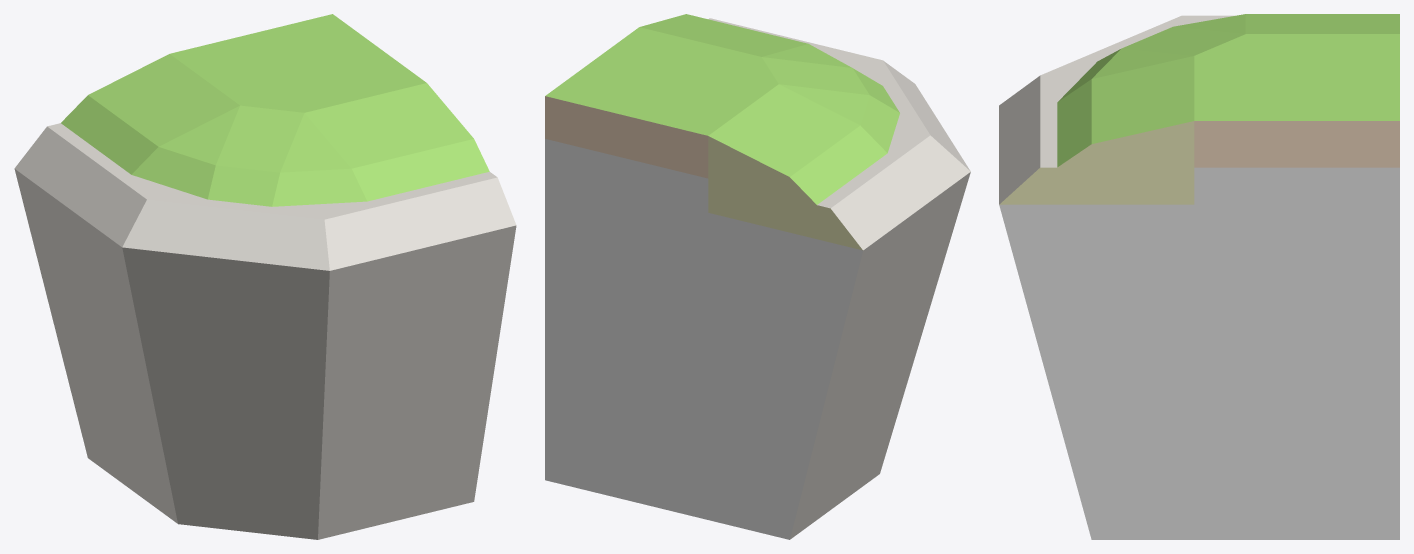
The model's file is Basic_Curve_Outer_2x2_Narrow_Top.glb.
The picture shows the model from 3 angles, left to right: view 1: azimuth 30°, elevation 25°; view 2: azimuth 150°, elevation 25°; view 3: azimuth 270°, elevation 25°; orthographic projection. The views are drawn at different scales.
Visible parts, largest first — view 1: Basic_Curve_Outer_2x2_Narrow_Top; view 2: Basic_Curve_Outer_2x2_Narrow_Top; view 3: Basic_Curve_Outer_2x2_Narrow_Top.
Part boxes in pixels (bbox=[...]): Basic_Curve_Outer_2x2_Narrow_Top: bbox=[14, 14, 516, 539]; Basic_Curve_Outer_2x2_Narrow_Top: bbox=[545, 14, 970, 539]; Basic_Curve_Outer_2x2_Narrow_Top: bbox=[999, 14, 1399, 539].
Size of the model in its own units: 195 by 225 by 195.
